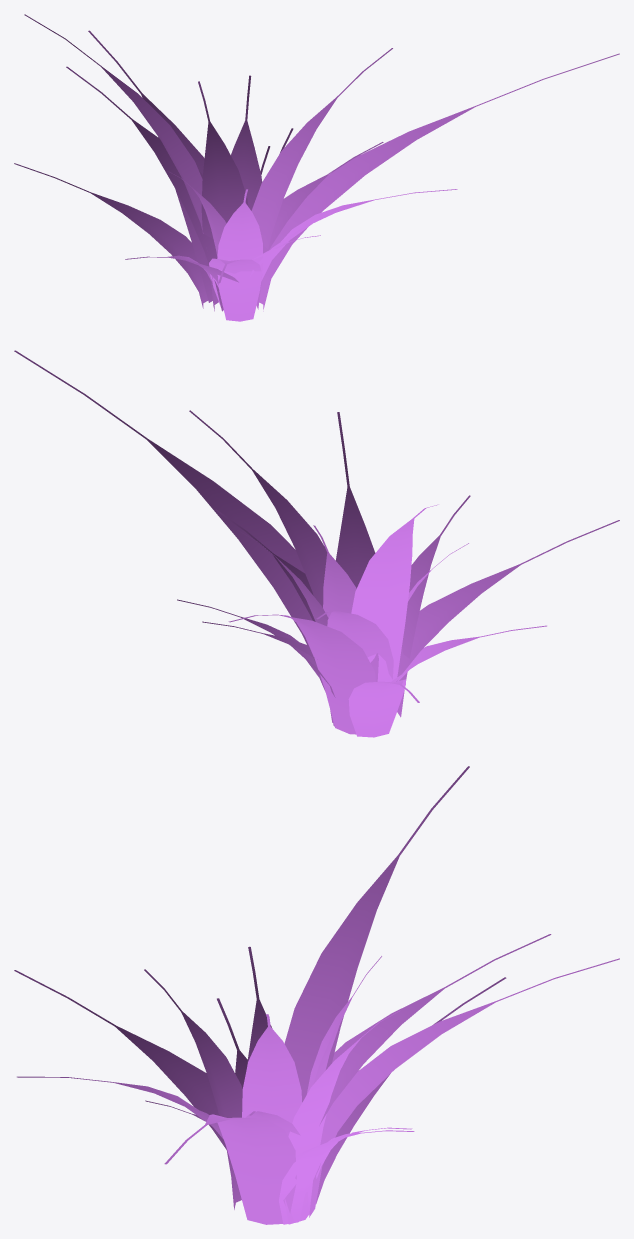
File: grass.fbx
3 renders of one model, top to bottom at view 1: azimuth 30°, elevation 25°; view 2: azimuth 150°, elevation 25°; view 3: azimuth 270°, elevation 25°, orthographic. The views are drawn at different scales.
Visible parts, largest first — view 1: grass; view 2: grass; view 3: grass.
Boxes of the visible parts, x1,y1,x2,y2 form: grass: [14, 14, 619, 321]; grass: [14, 350, 619, 737]; grass: [14, 766, 619, 1224].
Size of the model in its own units: 2.11 by 1.15 by 1.77.
